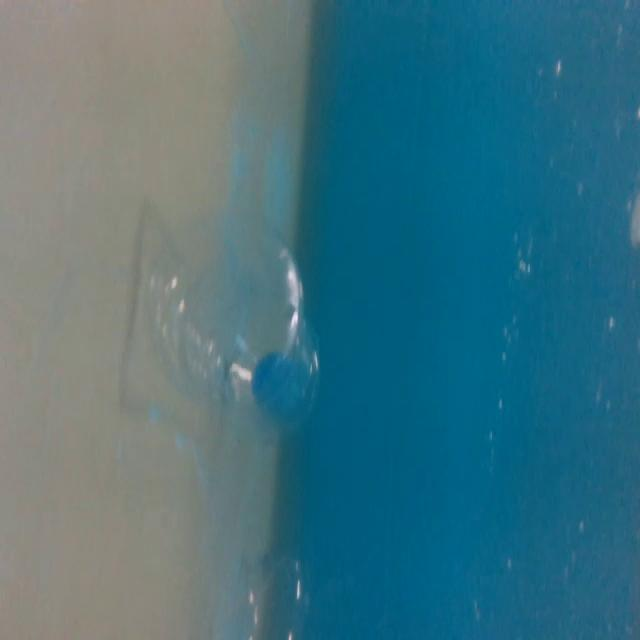plastic bottle: (153, 197, 333, 440), (224, 546, 322, 640)
